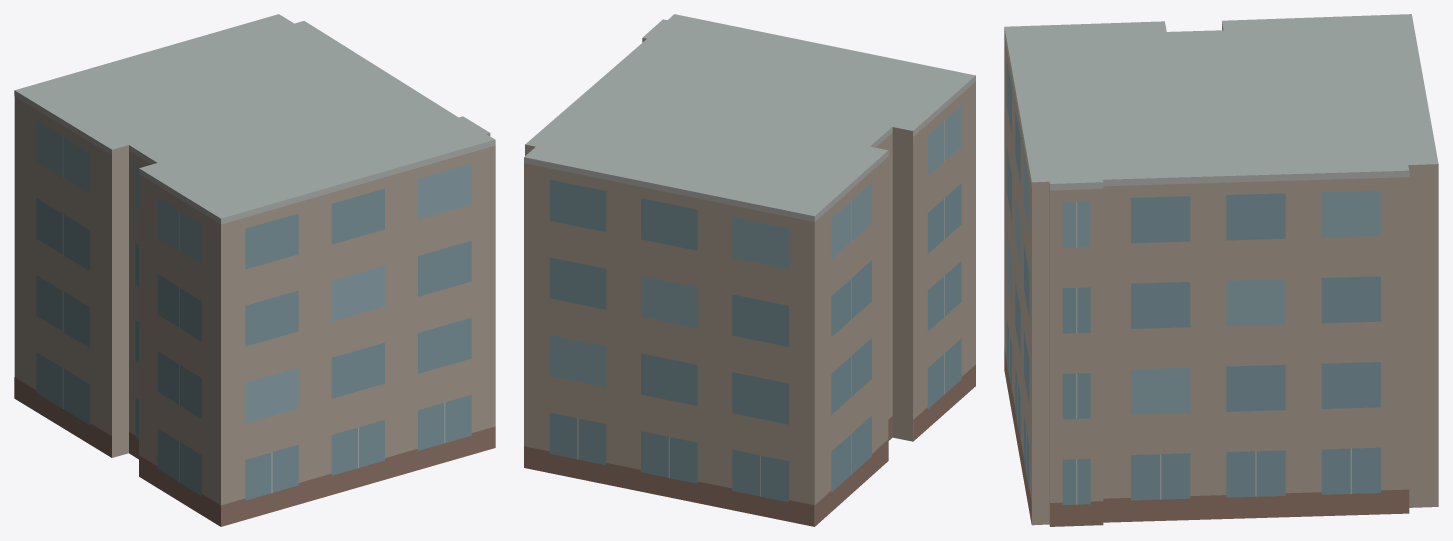
The model's file is survey-upis-32724087.glb.
3 views of the same model, side by side, from view 1: azimuth 30°, elevation 25°; view 2: azimuth 150°, elevation 25°; view 3: azimuth 270°, elevation 25° (orthographic). The views are drawn at different scales.
Visible parts, largest first — view 1: survey-upis-32724087.tmp; view 2: survey-upis-32724087.tmp; view 3: survey-upis-32724087.tmp.
Part boxes in pixels (box(x1,y1,x2,y2)): survey-upis-32724087.tmp: box(14, 14, 495, 526); survey-upis-32724087.tmp: box(524, 14, 975, 526); survey-upis-32724087.tmp: box(1004, 14, 1438, 526).
Size of the model in its own units: 13.62 by 12.8 by 14.7.
